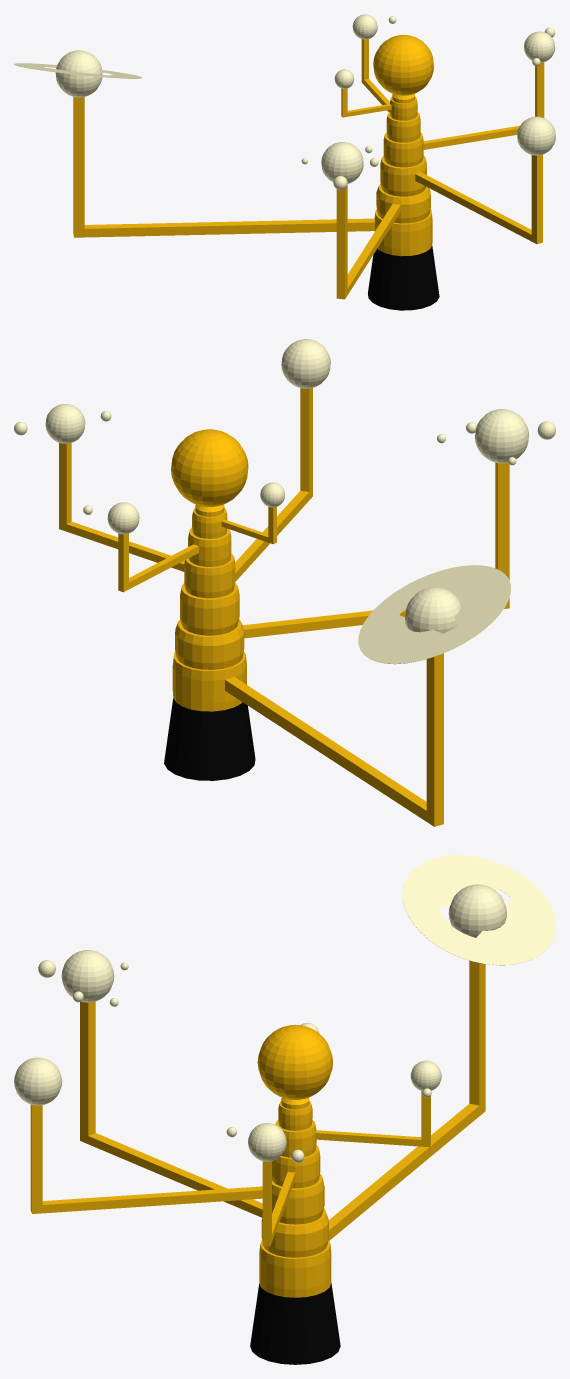
File: SolarSystem.fbx
The picture shows the model from 3 angles, top to bottom: view 1: azimuth 30°, elevation 25°; view 2: azimuth 150°, elevation 25°; view 3: azimuth 270°, elevation 25°; orthographic projection. The views are drawn at different scales.
Parts seen in each view (by area): view 1: Sphere; view 2: Sphere; view 3: Sphere.
Boxes of the visible parts, bbox=[...] form: Sphere: bbox=[14, 14, 555, 310]; Sphere: bbox=[14, 339, 555, 826]; Sphere: bbox=[14, 855, 555, 1364].
Bounding box in the file's own units: 885 × 477 × 738.
